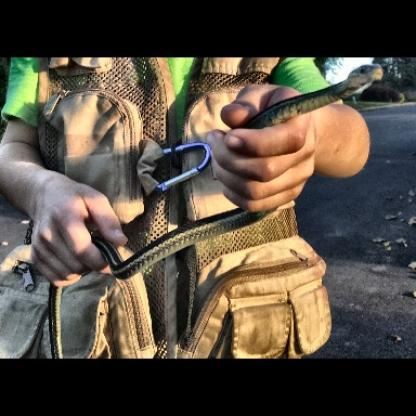Snake: (252, 58, 387, 128)
